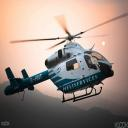helicopter: (4, 7, 126, 110)
